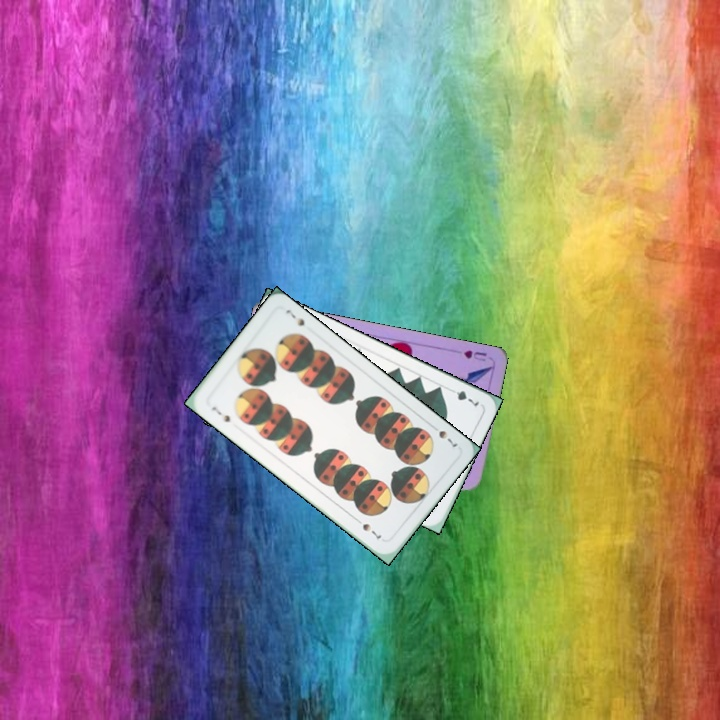G7: (445, 384, 482, 409)
HU: (459, 346, 489, 364)
S7: (426, 420, 460, 450), (207, 403, 233, 425)
